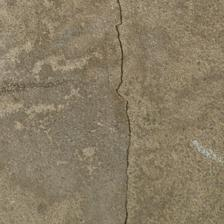Crack: (39, 12, 92, 125), (0, 0, 73, 82)
